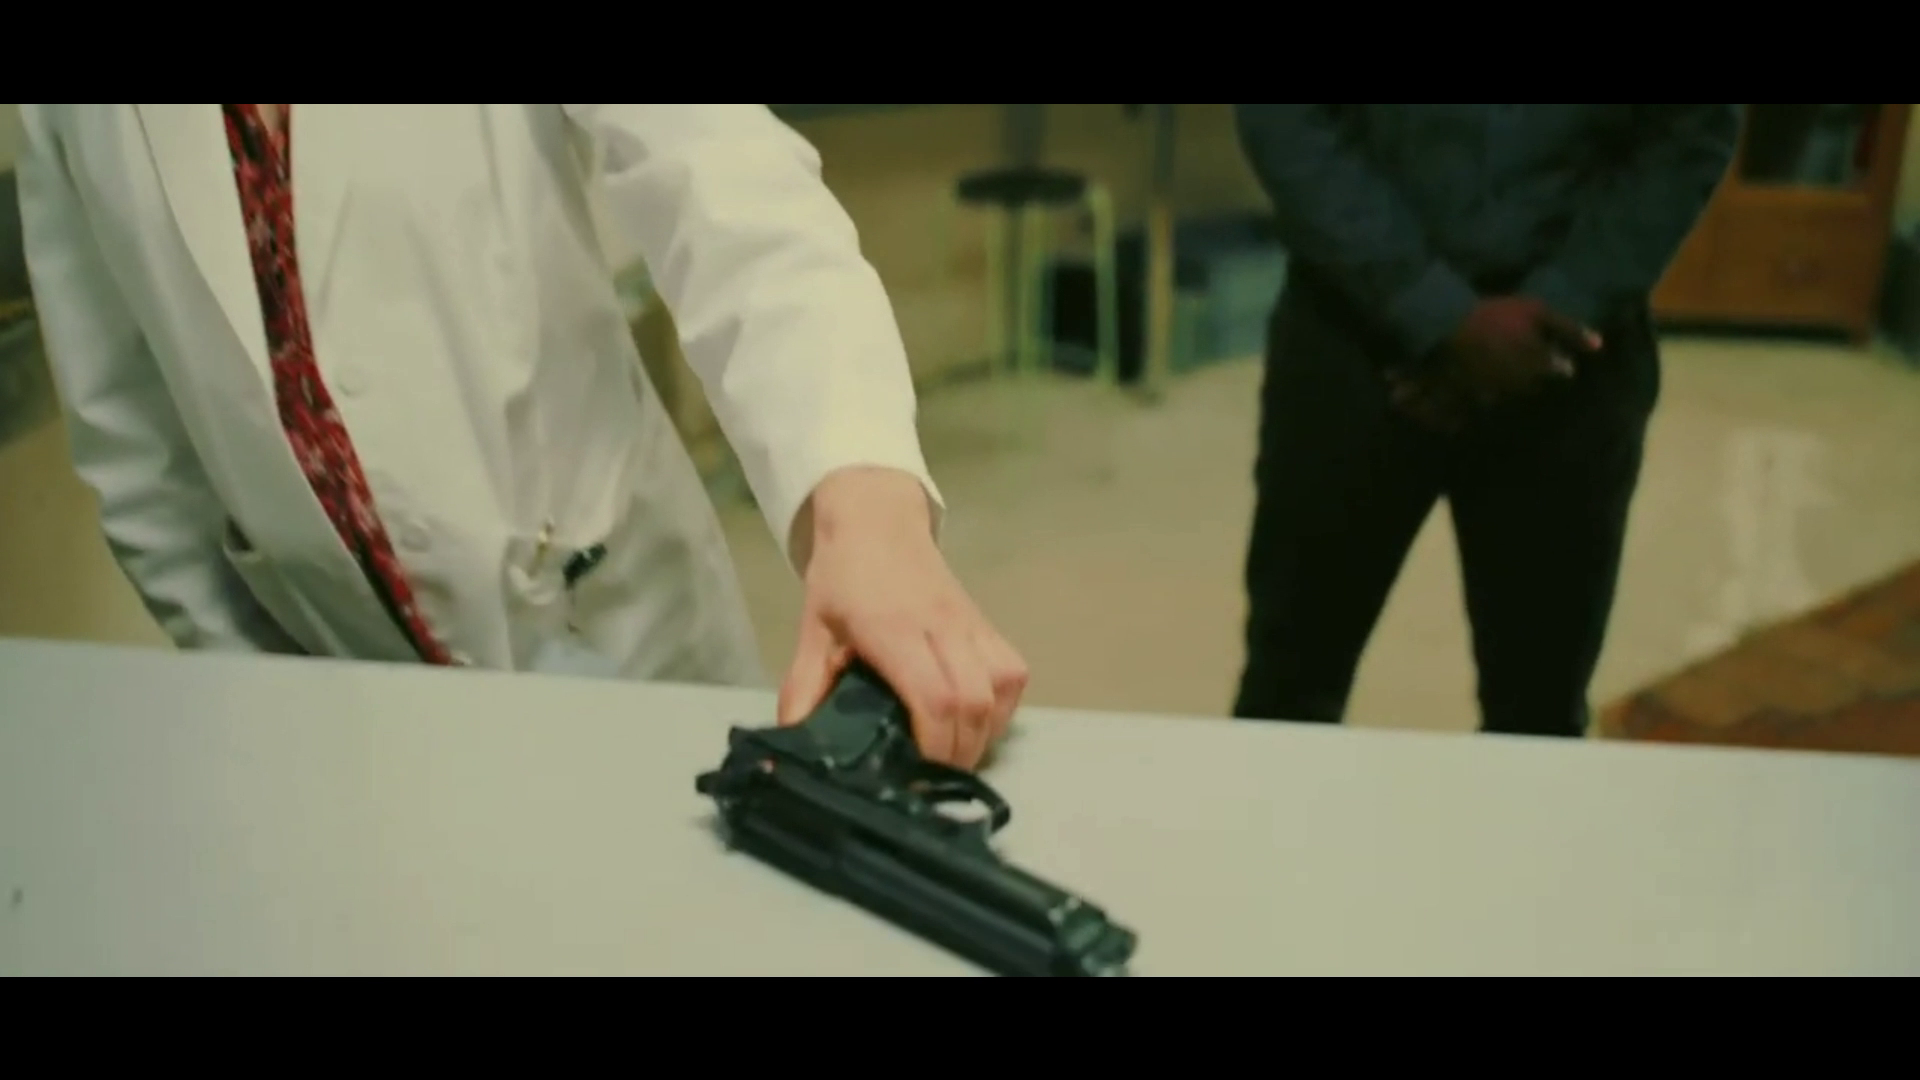SIG P226: (691, 682, 1139, 976)
